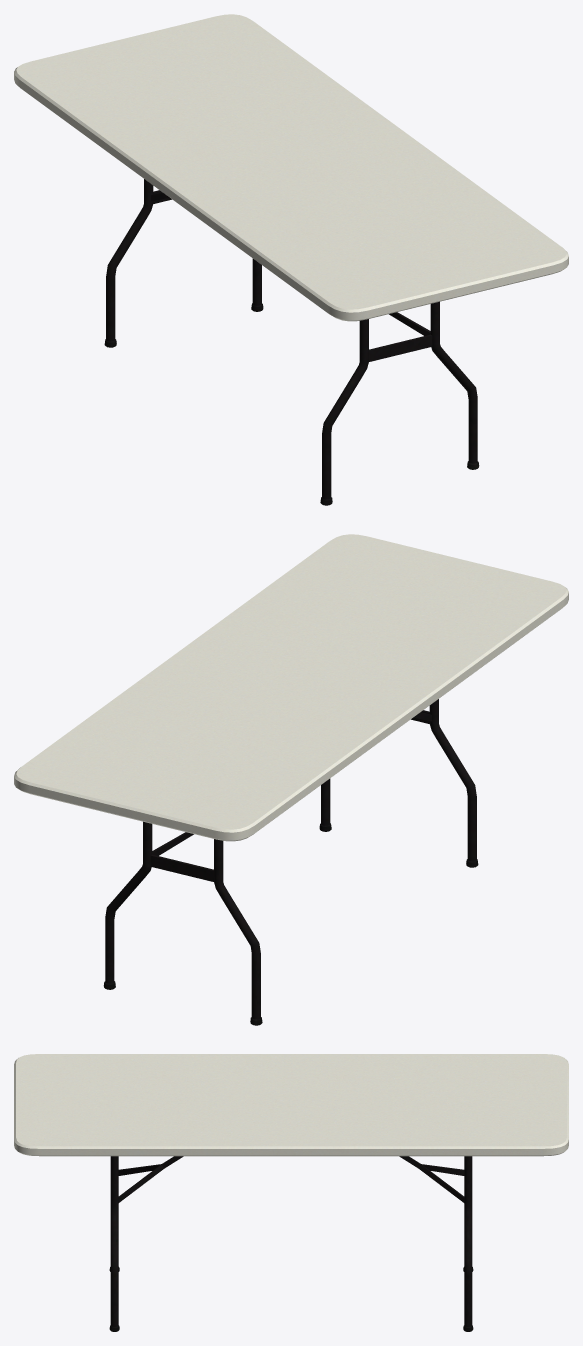
Rendered from table_folding.gltf.
The picture shows the model from 3 angles, top to bottom: view 1: azimuth 30°, elevation 25°; view 2: azimuth 150°, elevation 25°; view 3: azimuth 270°, elevation 25°; orthographic projection. The views are drawn at different scales.
Parts seen in each view (by area): view 1: TABLE_Folding; view 2: TABLE_Folding; view 3: TABLE_Folding.
Part boxes in pixels (x1,y1,x2,y2): TABLE_Folding: (14,14,568,505); TABLE_Folding: (14,534,568,1025); TABLE_Folding: (14,1054,568,1331).
Size of the model in its own units: 0.7937 by 0.7889 by 1.98.
Materials: 1 (1 with a texture image).
